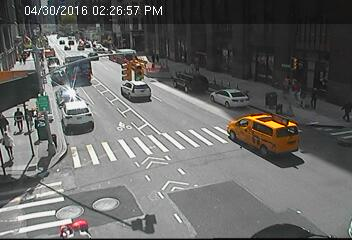neg: (83, 100, 108, 134), (217, 89, 241, 121), (95, 161, 116, 189), (151, 176, 172, 203), (133, 117, 147, 135), (185, 81, 198, 98), (152, 68, 162, 82), (119, 34, 129, 48), (54, 43, 62, 54), (63, 33, 71, 43), (38, 37, 45, 46), (85, 42, 91, 50)
pos: (15, 104, 38, 135), (307, 83, 328, 112), (7, 107, 27, 133), (336, 99, 351, 126), (296, 84, 313, 107), (188, 60, 199, 75), (192, 59, 203, 73), (18, 49, 28, 63), (154, 49, 164, 62), (149, 51, 158, 64)
